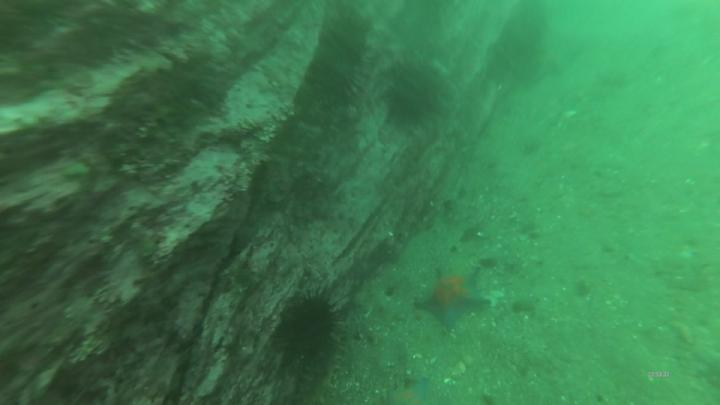echinus: (297, 293, 341, 355), (396, 64, 438, 125)
starfish: (417, 270, 485, 325)
